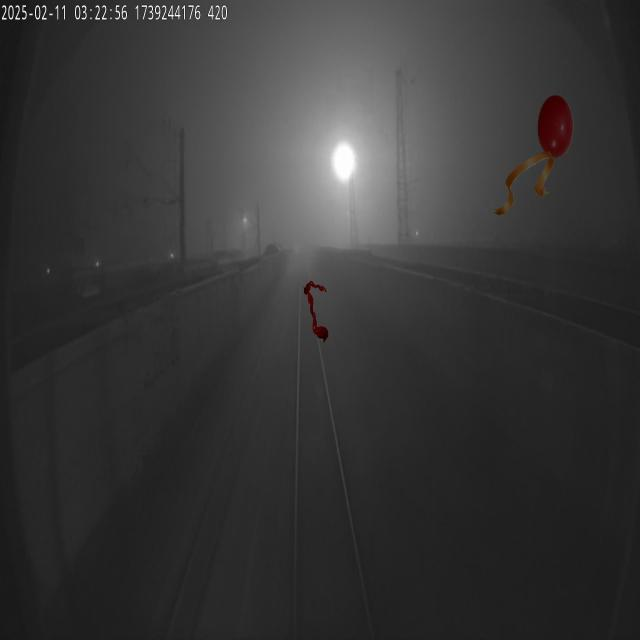balloon: (537, 95, 574, 159)
floating object: (494, 151, 554, 215), (303, 279, 329, 343)
